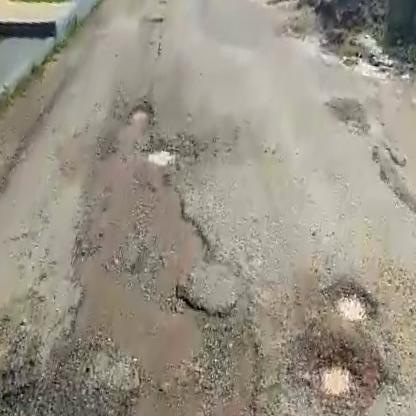pothole: (293, 332, 374, 416), (321, 274, 388, 329), (140, 134, 182, 171), (128, 97, 158, 126)
